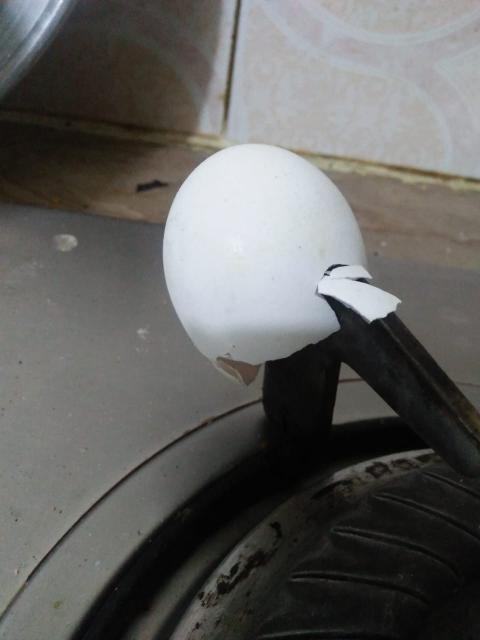Roto: (161, 141, 371, 382)
